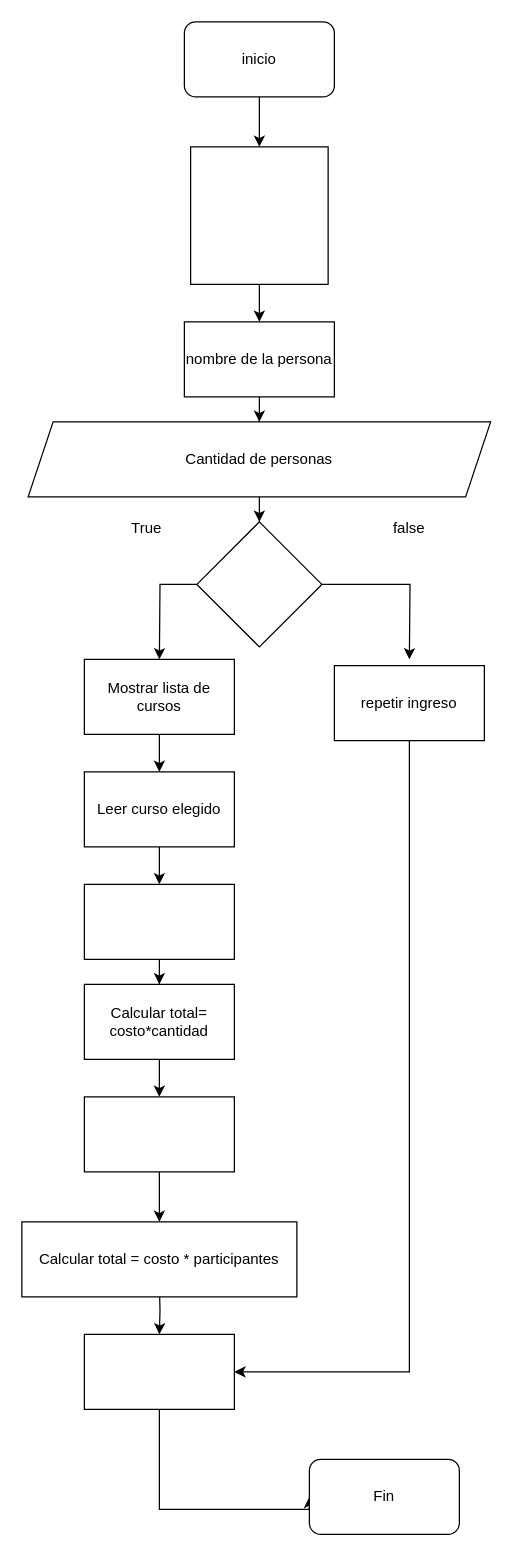
This 513x1556 diagram has some shape labels left out. Each missing label, with the box of its shape:
Asignar costo según el curso: (83, 883, 234, 959)
Declaramos variables: Nombre de la persona Cantidad de personas: (189, 146, 328, 284)
Entre 1 a 15 personas: (196, 521, 322, 647)
mostrar resumen con costo total: (83, 1096, 234, 1172)
Volver al menú principal: (83, 1333, 234, 1409)
